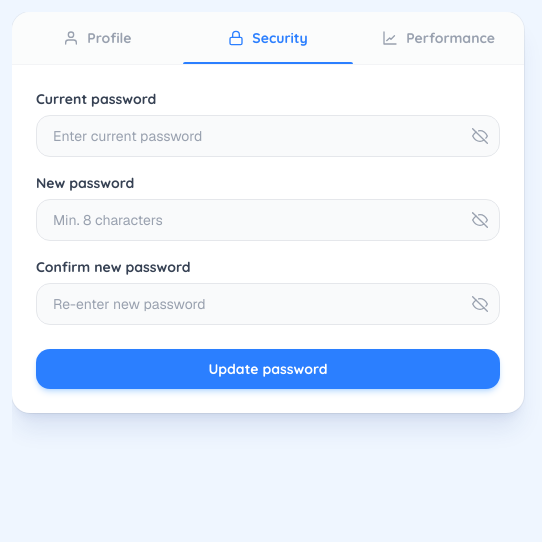
Test: AccountCard – security tab › shows error when passwords do not match
The image size is (542, 542).
In the password field labelled "Current password": (268, 136) [36,115,500,157], type "currentPass1"
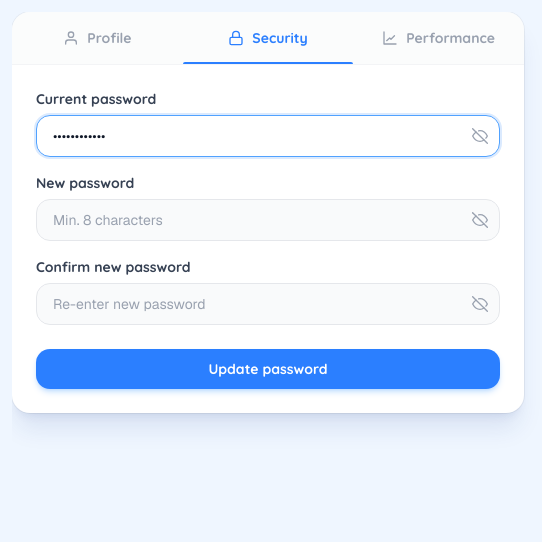
In the password field labelled "New password": (268, 220) [36,199,500,241], type "NewPass123!"
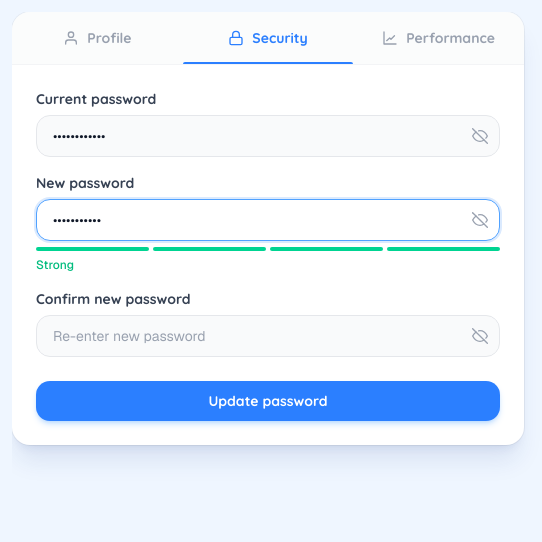
In the password field labelled "Confirm new password": (268, 336) [36,315,500,357], type "WrongPass123!"
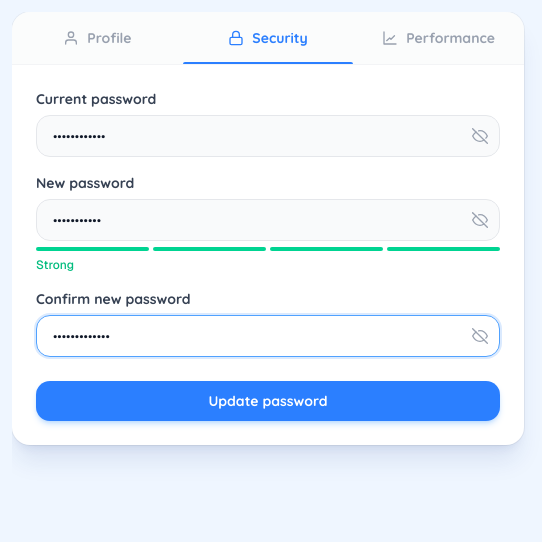
Click the button "Update password": (268, 401) [36,381,500,421]
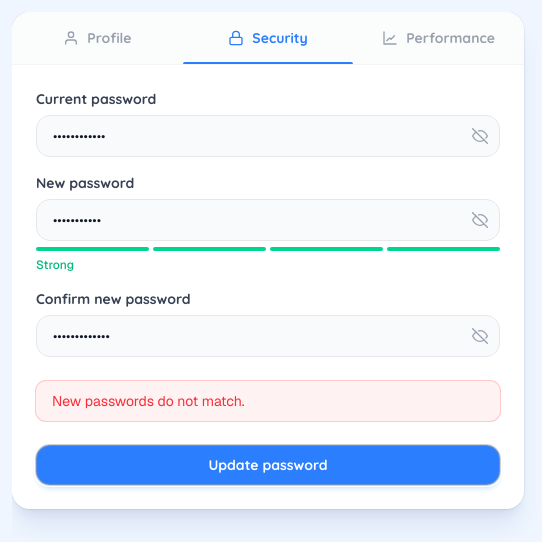
expect the text "New passwords do not match." is shown: met, box [36,381,500,421]
